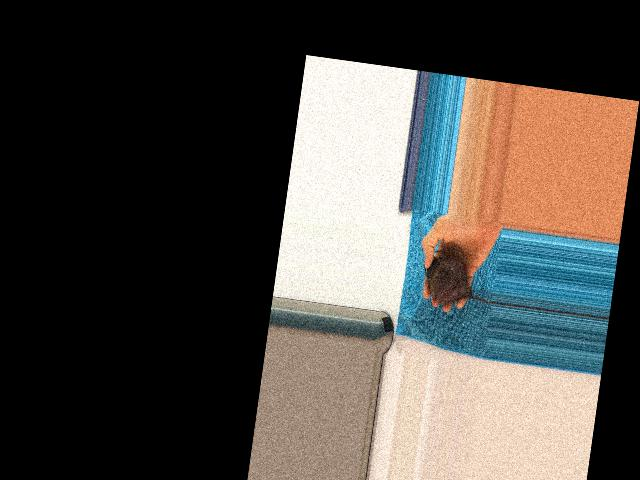beet: (419, 245, 499, 311)
